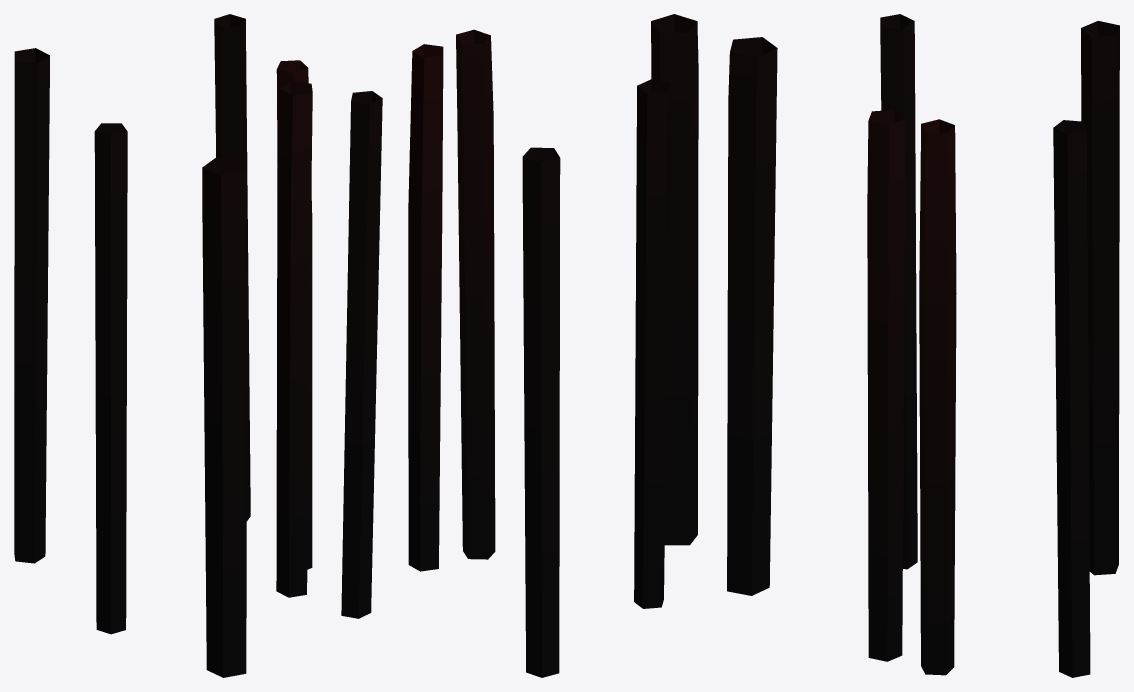
File: bamboo_c_low.glb
3 views of the same model, side by side, from view 1: azimuth 30°, elevation 25°; view 2: azimuth 150°, elevation 25°; view 3: azimuth 270°, elevation 25° (orthographic). The views are drawn at different scales.
Visible parts, largest first — view 1: bamboo_c_low; view 2: bamboo_c_low; view 3: bamboo_c_low.
Boxes of the visible parts, box(x1,y1,x2,y2) form: bamboo_c_low: box(14, 14, 312, 677); bamboo_c_low: box(341, 14, 698, 677); bamboo_c_low: box(727, 14, 1119, 677).
Size of the model in its own units: 0.4727 by 0.9591 by 0.6325.
Materials: 1 (1 with a texture image).
